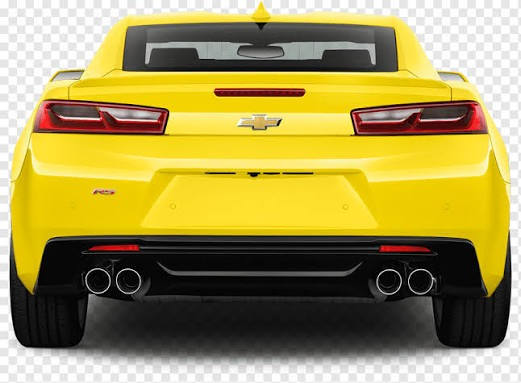car: (11, 6, 512, 357)
